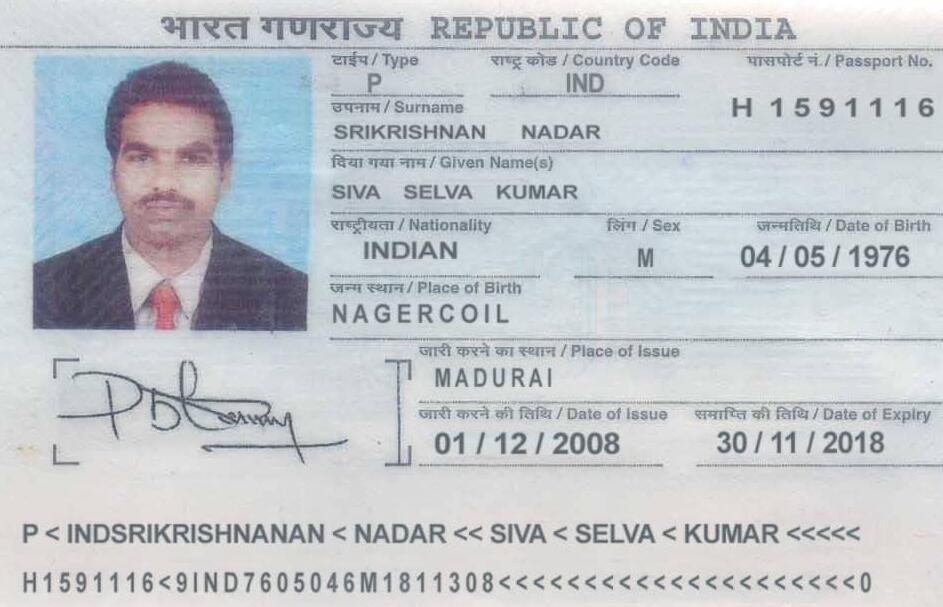DOB: (734, 238, 923, 279)
Surname: (329, 111, 616, 149)
country_code: (542, 58, 620, 110)
date_of_expiry: (708, 423, 917, 464)
date_of_issue: (433, 420, 630, 466)
details: (12, 490, 888, 604)
name: (326, 171, 588, 213)
nationality: (350, 232, 481, 274)
passport_no: (724, 69, 937, 130)
photo: (36, 50, 306, 327)
place_of_birth: (319, 295, 744, 338)
place_of_issue: (427, 360, 625, 401)
sex: (607, 237, 678, 277)
sign: (60, 345, 358, 466)
type: (332, 59, 432, 101)
